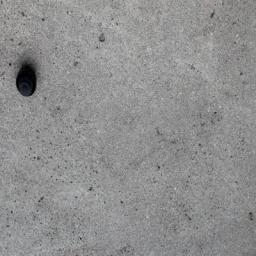FOD: (14, 58, 40, 102)
